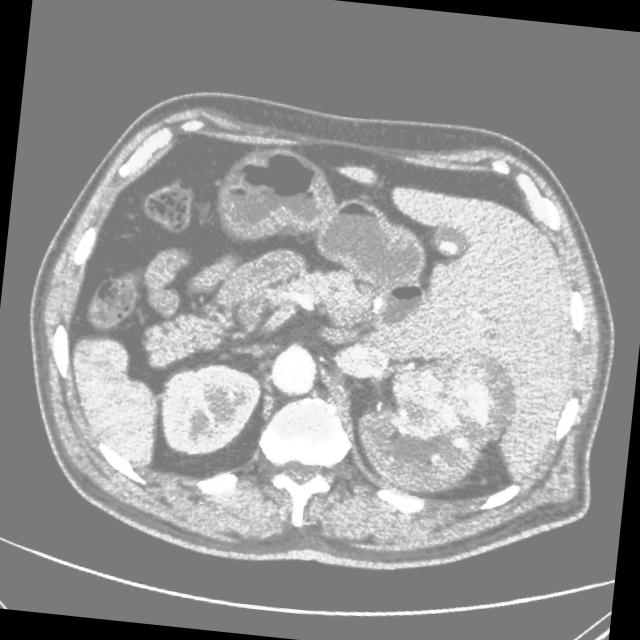TUMOR: (100, 243, 415, 476)
